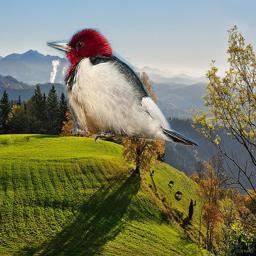Woodpecker: (46, 28, 199, 146)
